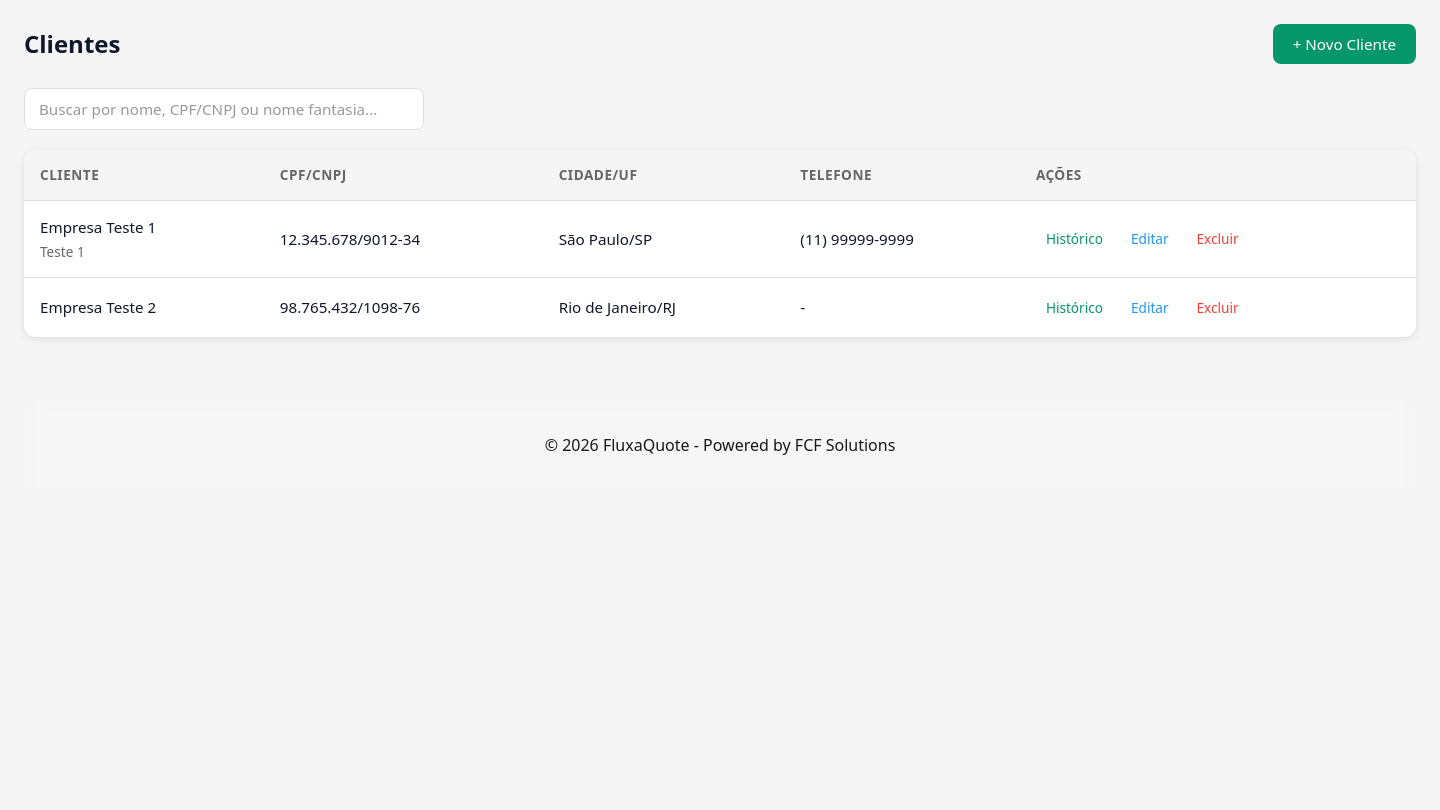
Test: Clientes › deve fechar modal de confirmação ao clicar em cancelar
Click the button "Excluir" in the row of "Empresa Teste 1" at (1218, 239), box [1186,223,1248,254]
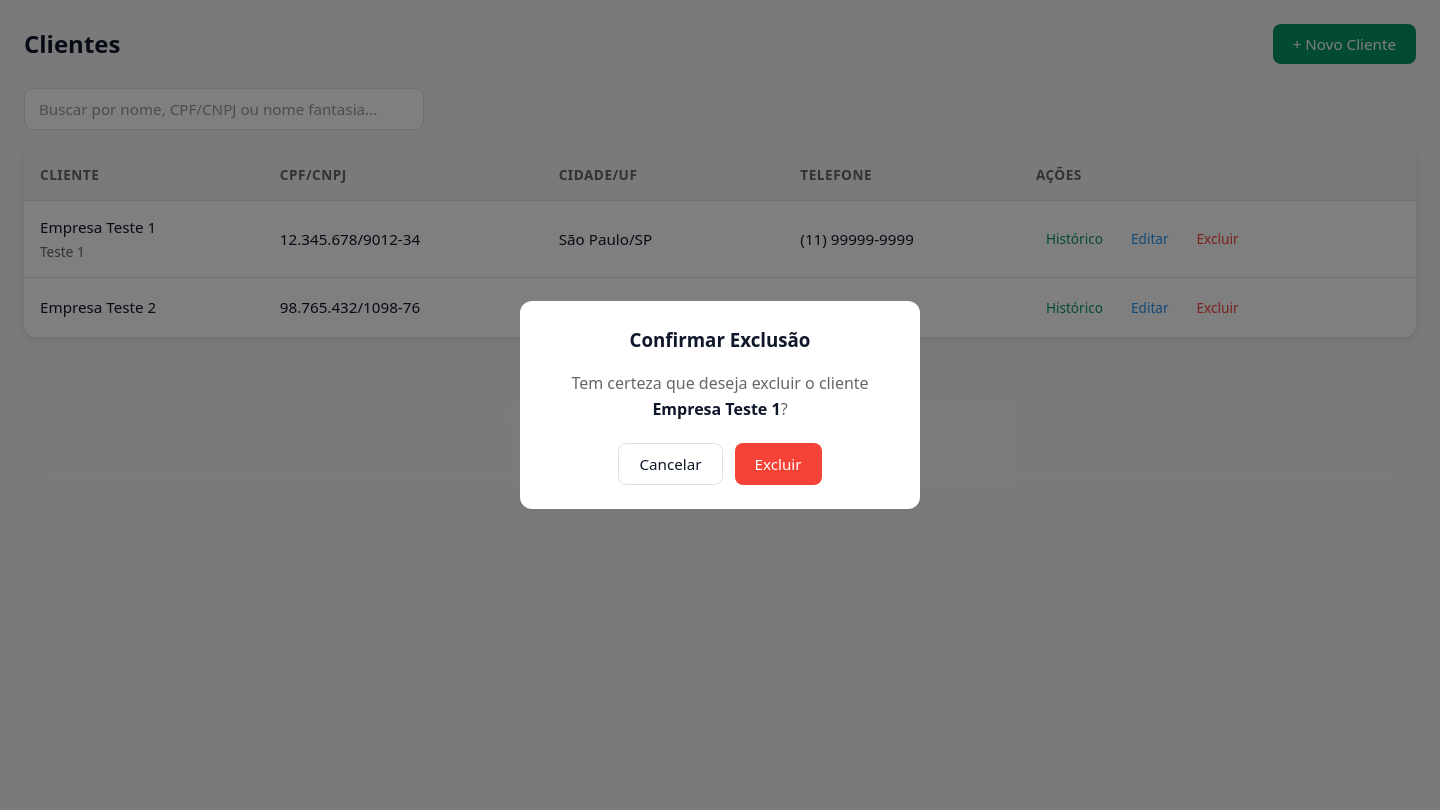
Check: the heading "Confirmar Exclusão" is shown, box [630,327,810,352]
Click the button "Cancelar" at (671, 464), box [618,443,723,485]
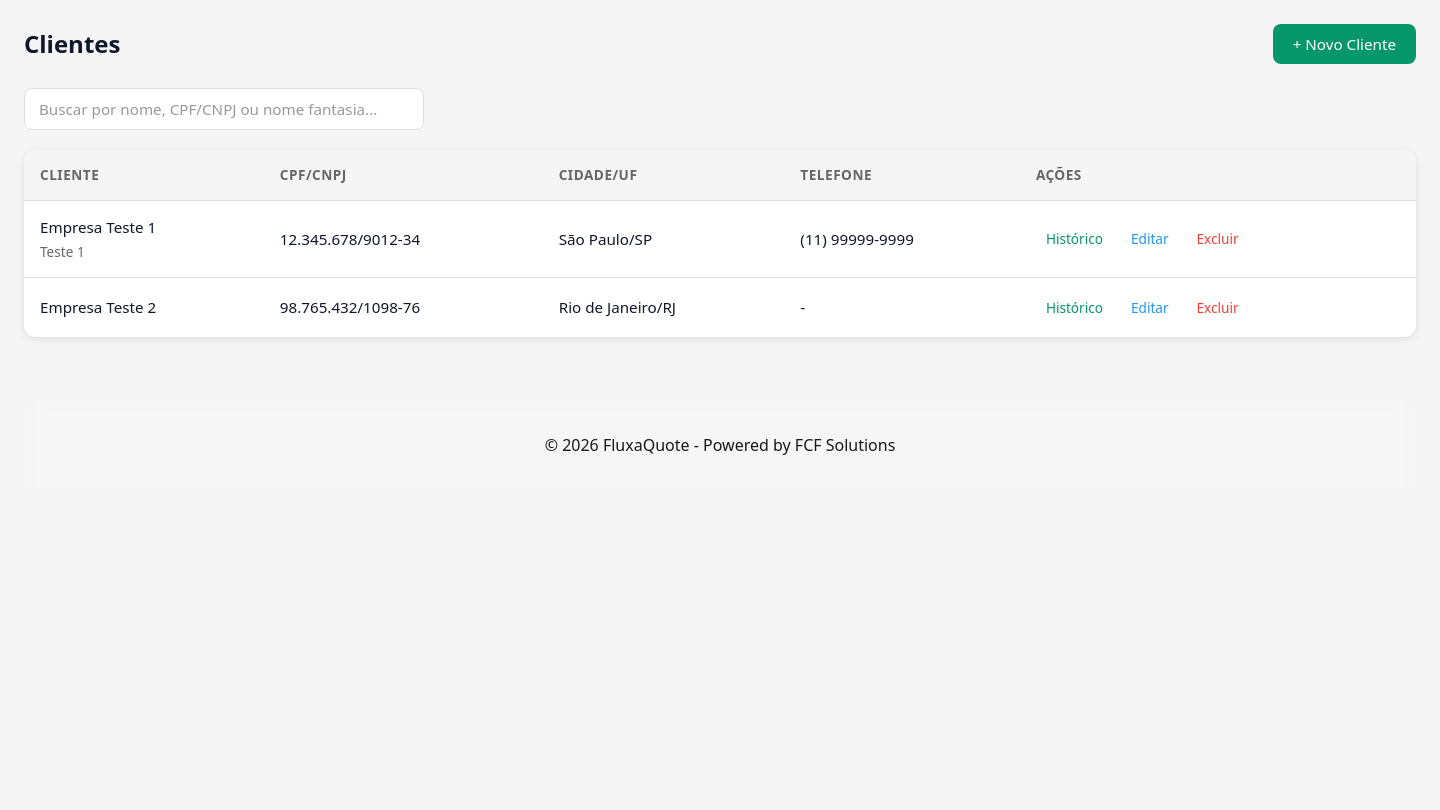
Check: the heading "Confirmar Exclusão" is gone
